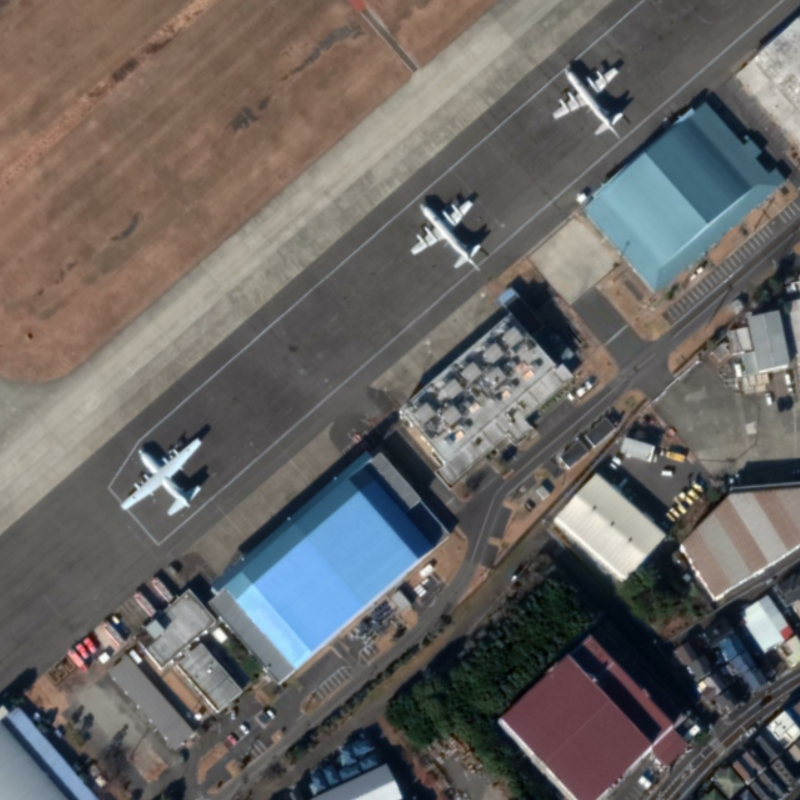A2: (118, 435, 214, 520)
A9: (544, 55, 631, 144), (407, 190, 490, 275)
